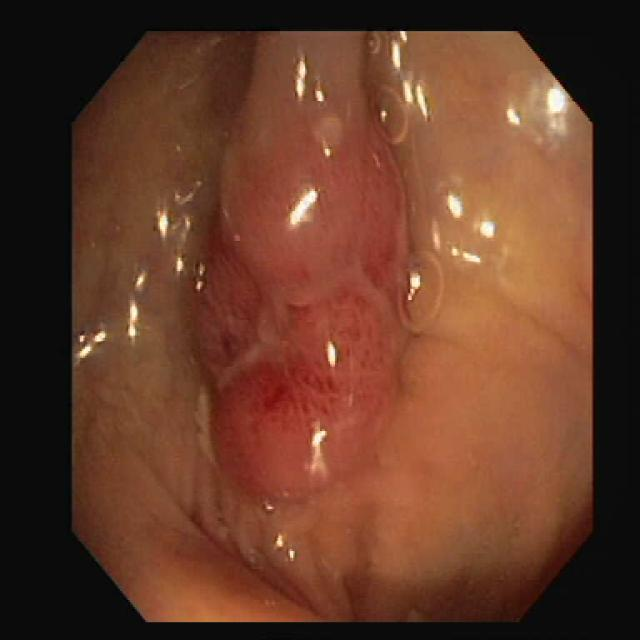tumor: (192, 33, 408, 496)
